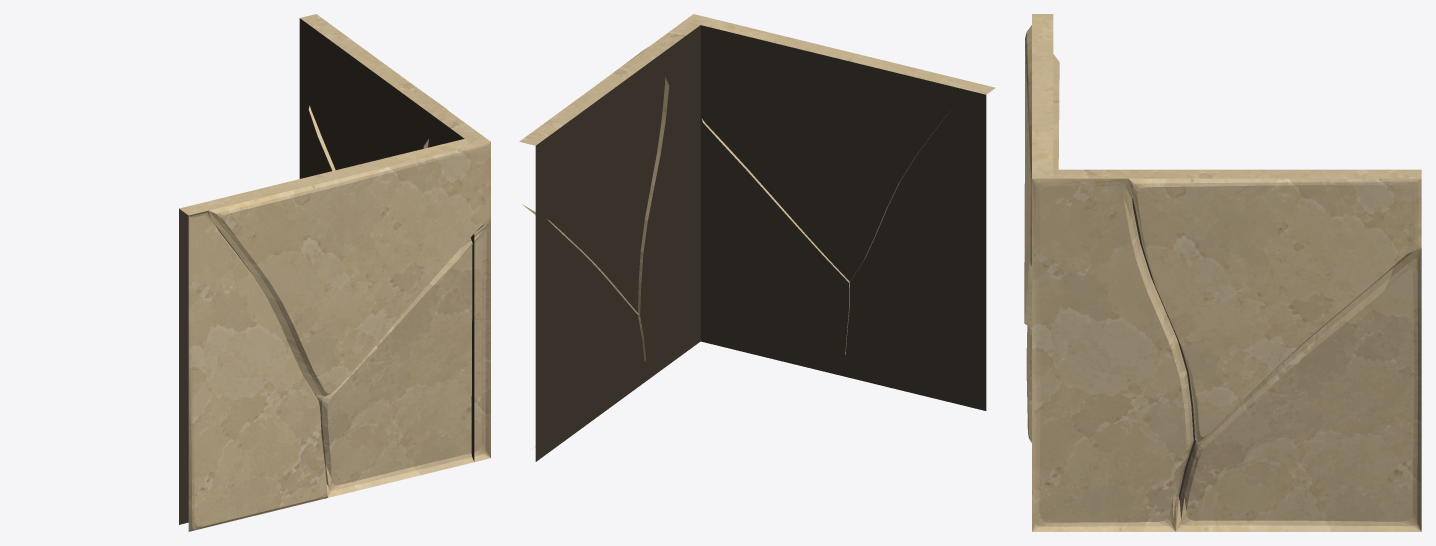
The model's file is ground_square_corner_05.glb.
3 views of the same model, side by side, from view 1: azimuth 30°, elevation 25°; view 2: azimuth 150°, elevation 25°; view 3: azimuth 270°, elevation 25° (orthographic). The views are drawn at different scales.
Parts seen in each view (by area): view 1: GroundSquareCorner05_Body; view 2: GroundSquareCorner05_Body; view 3: GroundSquareCorner05_Body.
Boxes of the visible parts, x1,y1,x2,y2 form: GroundSquareCorner05_Body: (179,14,490,531); GroundSquareCorner05_Body: (519,14,995,461); GroundSquareCorner05_Body: (1024,14,1421,531).
Bounding box in the file's own units: 1.02 × 1 × 1.02.
Materials: 8 (7 with a texture image).
